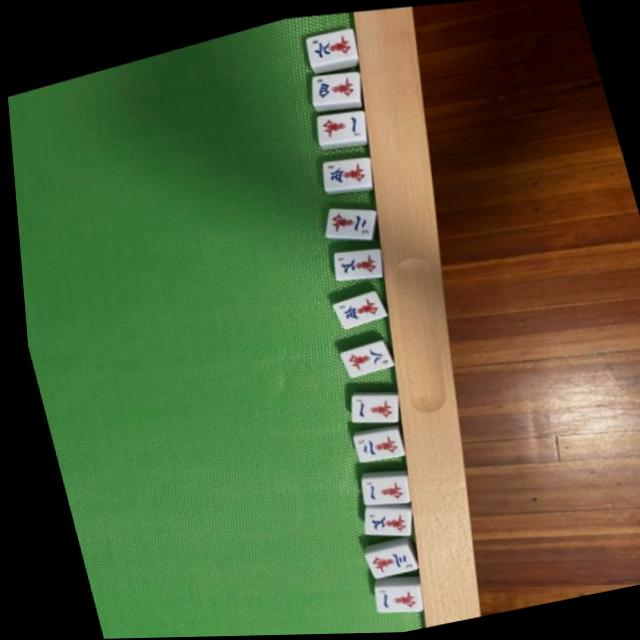sc1: (313, 102, 371, 147), (340, 383, 396, 429), (349, 463, 405, 508), (360, 571, 416, 615)
sc2: (342, 420, 398, 463), (322, 198, 376, 241)
sc3: (350, 534, 412, 580)
sc4: (310, 64, 364, 105)
sc5: (324, 283, 383, 327), (320, 151, 371, 192)
sc6: (308, 23, 361, 64)
sc7: (350, 496, 405, 540), (327, 241, 383, 282)
sc8: (331, 333, 391, 377)
